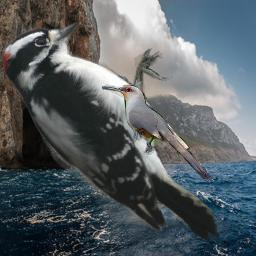Cuckoo: (102, 84, 215, 184)
Woodpecker: (2, 22, 220, 242)
